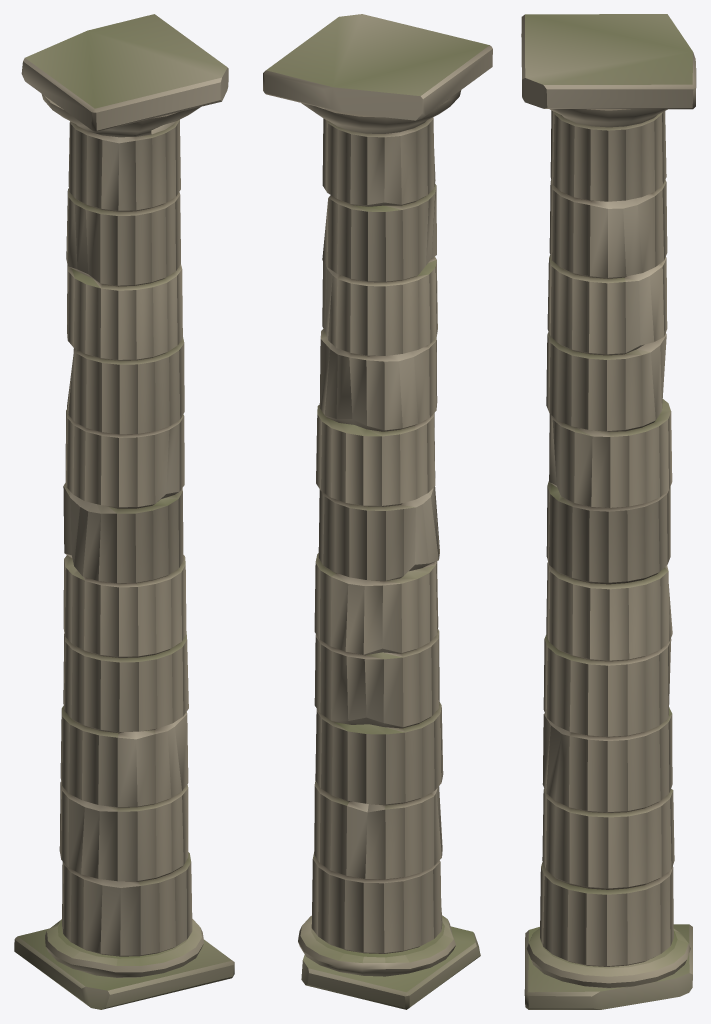
The model's file is column_mid.glb.
3 renders of one model, left to right at view 1: azimuth 30°, elevation 25°; view 2: azimuth 150°, elevation 25°; view 3: azimuth 270°, elevation 25°, orthographic. The views are drawn at different scales.
Parts seen in each view (by area): view 1: column_mid; view 2: column_mid; view 3: column_mid.
Boxes of the visible parts, x1=… form: column_mid: x1=14, y1=14, x2=234, y2=1009; column_mid: x1=263, y1=14, x2=492, y2=1009; column_mid: x1=521, y1=14, x2=696, y2=1009.
Bounding box in the file's own units: 5.21 × 30.51 × 5.22.
